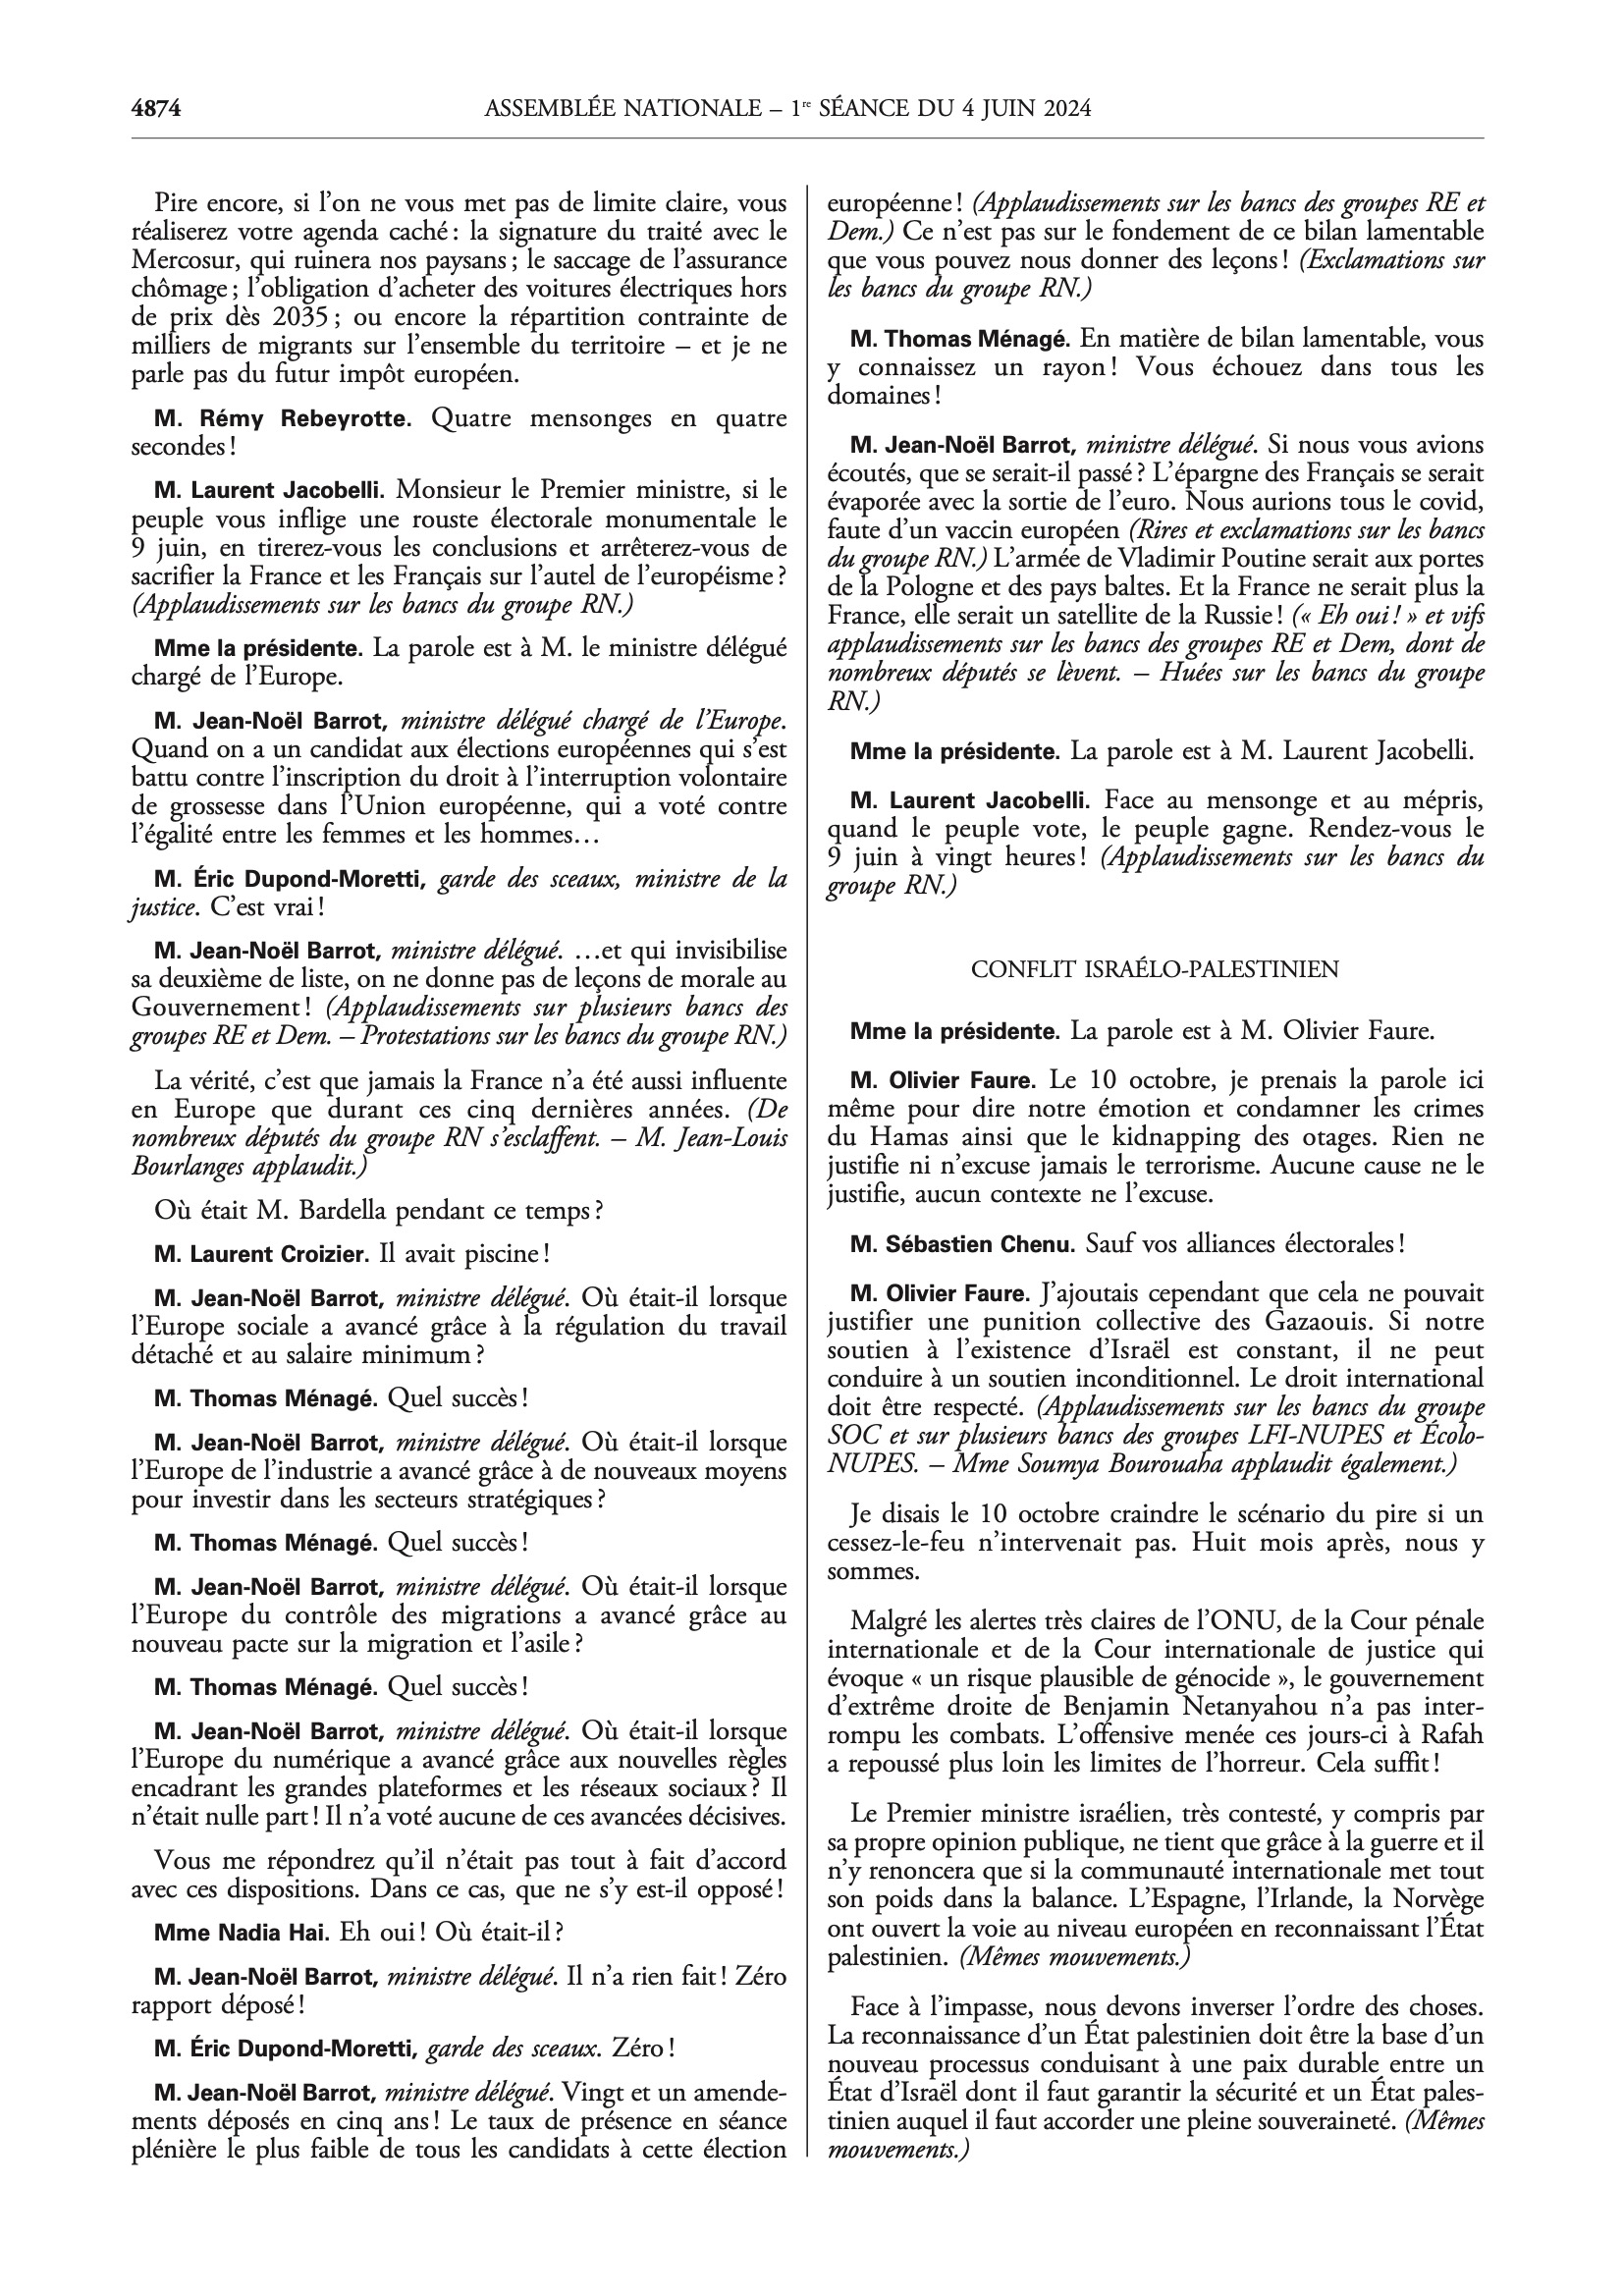MainZone-Continued: (819, 182, 1490, 306)
MainZone-Head: (962, 949, 1346, 992)
MainZone-P: (819, 426, 1489, 718), (122, 181, 792, 392), (819, 1275, 1493, 1483), (821, 1991, 1492, 2171), (820, 1796, 1490, 1976), (820, 1602, 1492, 1780), (820, 1059, 1494, 1213), (120, 471, 792, 623), (121, 703, 792, 852), (817, 781, 1491, 908), (119, 1063, 795, 1184), (119, 933, 793, 1055), (119, 1713, 792, 1833), (119, 2072, 792, 2174), (120, 1569, 792, 1666), (120, 1424, 791, 1519), (819, 1495, 1492, 1589), (121, 1280, 791, 1374), (819, 320, 1488, 414), (116, 628, 791, 696), (119, 1841, 790, 1910), (120, 1958, 791, 2027), (118, 400, 791, 467), (119, 860, 792, 925), (126, 2028, 784, 2070), (832, 1223, 1448, 1266), (828, 731, 1486, 770), (834, 1011, 1445, 1052), (127, 1521, 679, 1565), (124, 1189, 619, 1233), (127, 1233, 570, 1277), (119, 1912, 569, 1953), (129, 1379, 552, 1420), (133, 1668, 538, 1709)
StampZone: (475, 85, 1104, 135)
TitlePageZone: (123, 88, 189, 130)
